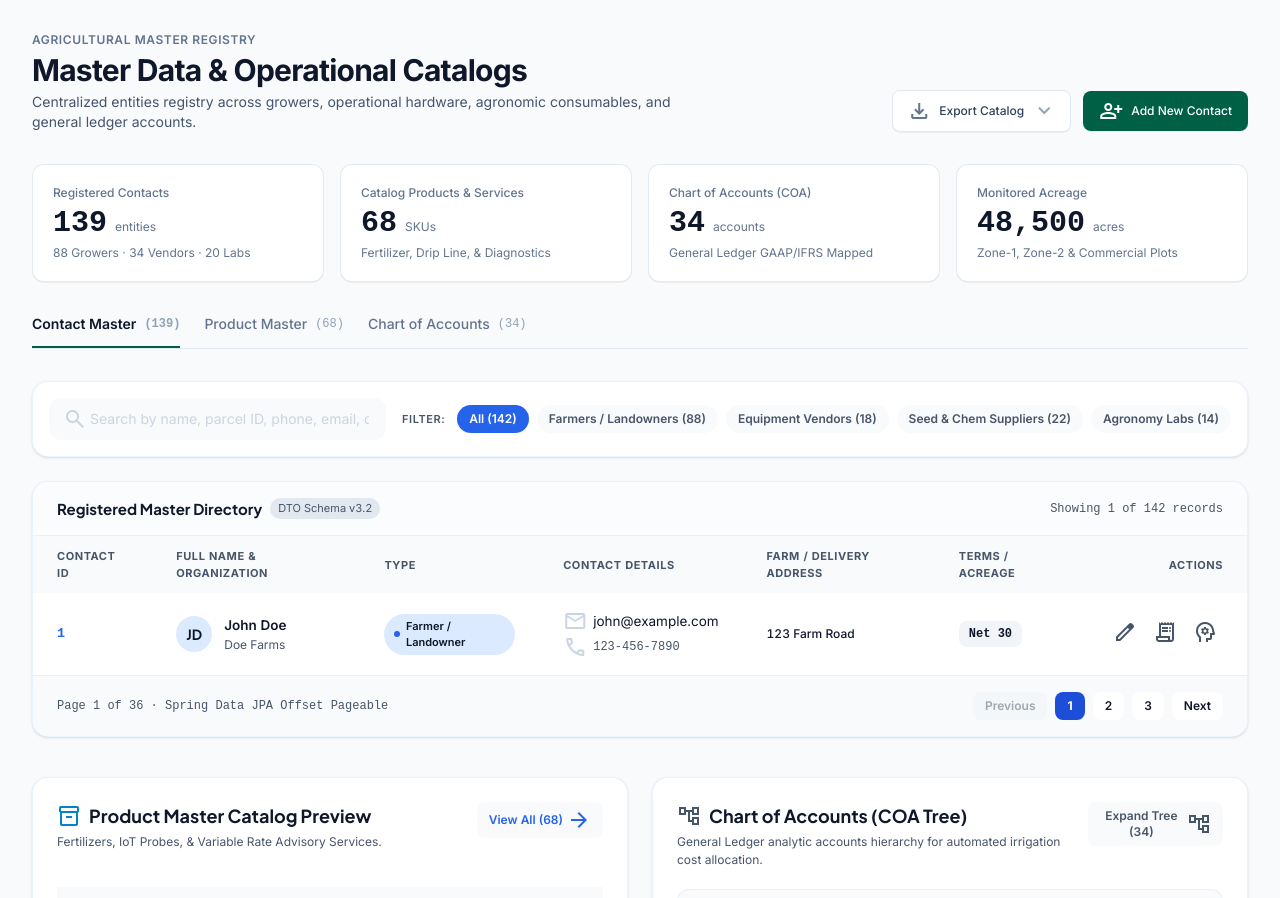
Test: MasterDataView Component › renders contacts and opens add contact modal
The width and height of the screenshot is (1280, 898).
Expected: the text "John Doe" is shown, left=224, top=615, right=286, bottom=636
Note: Open modal
Click the button "Add New Contact" at x=1166, y=111, box left=1083, top=91, right=1248, bottom=131
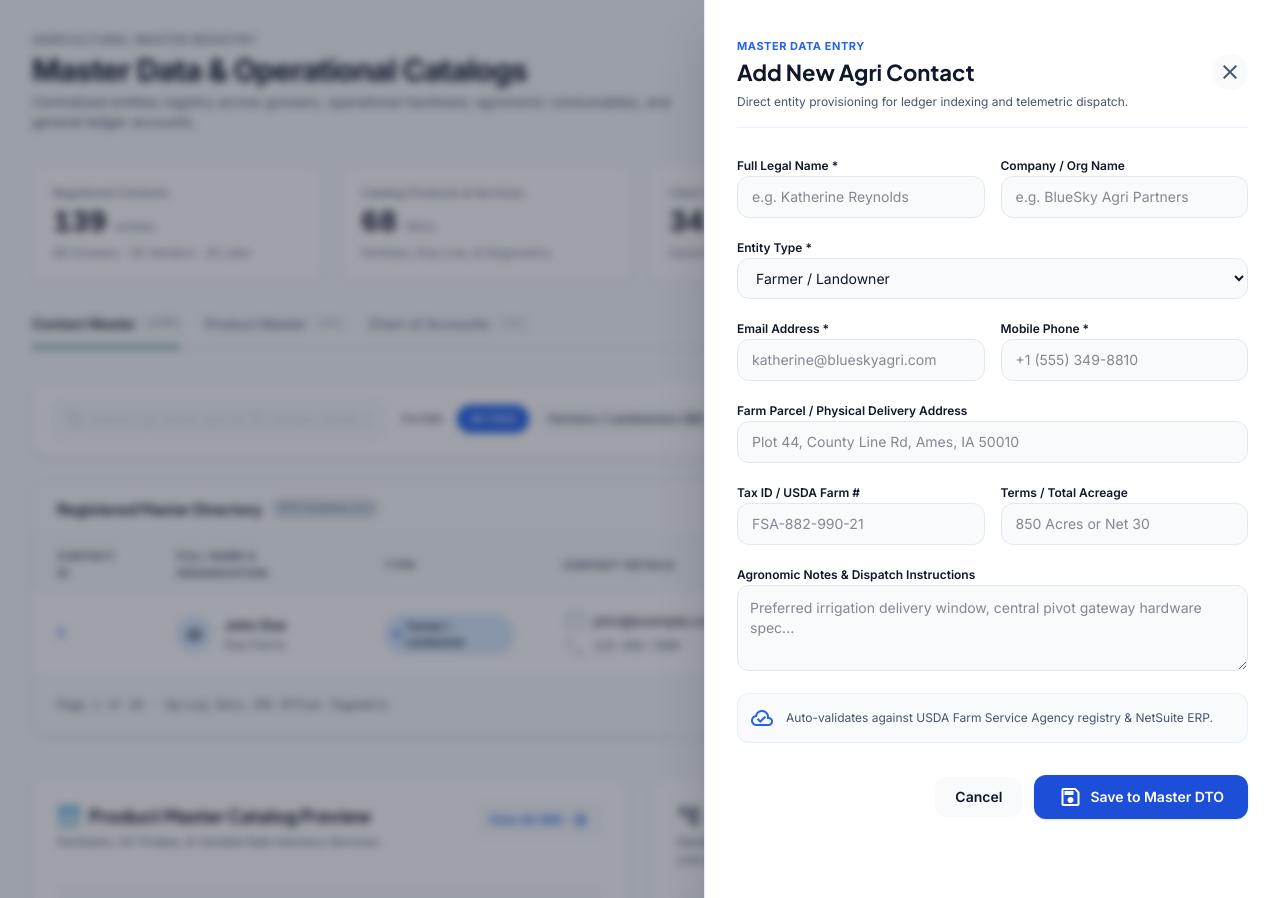
Now the heading "Add New Agri Contact" is shown, box left=737, top=58, right=974, bottom=86
